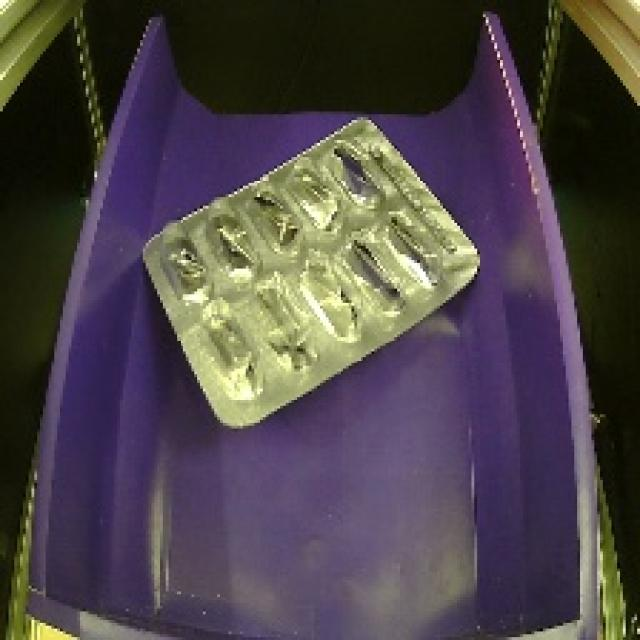med_plate: (123, 102, 501, 442)
